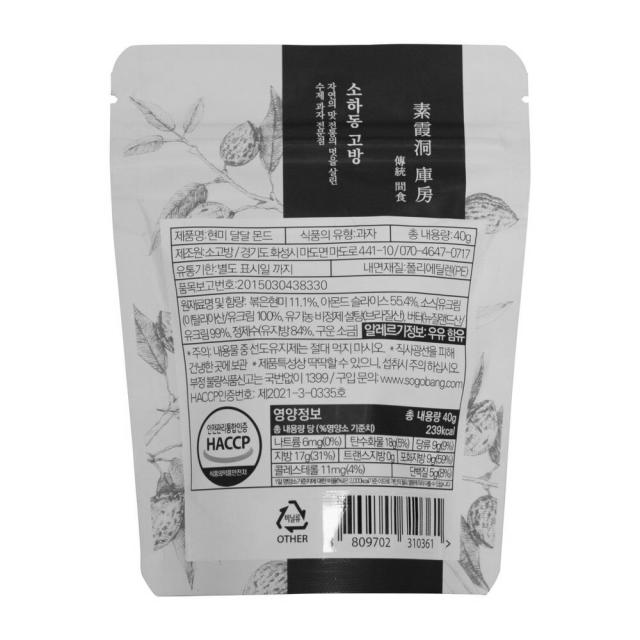Nutrition Label: (265, 398, 464, 497)
